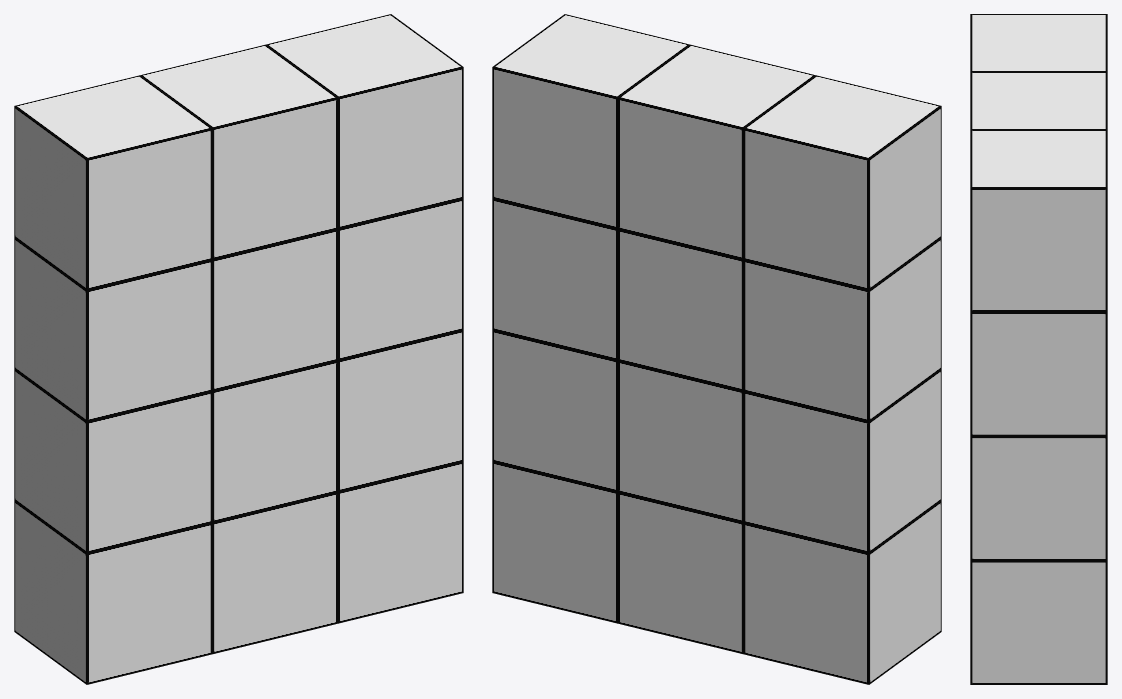
File: stage05_wall.fbx
3 renders of one model, left to right at view 1: azimuth 30°, elevation 25°; view 2: azimuth 150°, elevation 25°; view 3: azimuth 270°, elevation 25°, orthographic. The views are drawn at different scales.
Visible parts, largest first — view 1: polySurface193; view 2: polySurface193; view 3: polySurface193.
Part boxes in pixels (x1,y1,x2,y2): polySurface193: (14, 14, 463, 684); polySurface193: (492, 14, 941, 684); polySurface193: (970, 14, 1107, 684).
Size of the model in its own units: 3 by 4 by 1.
1 material, 1 textured.
